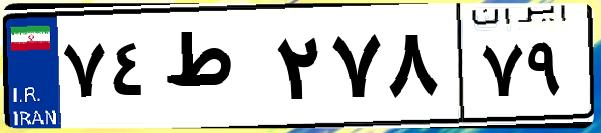2: (270, 28, 330, 110)
4: (110, 28, 158, 98)
7: (330, 28, 385, 110), (57, 26, 110, 100), (475, 38, 525, 113)
8: (385, 28, 445, 110)
9: (525, 38, 570, 115)
ط: (158, 20, 270, 120)
